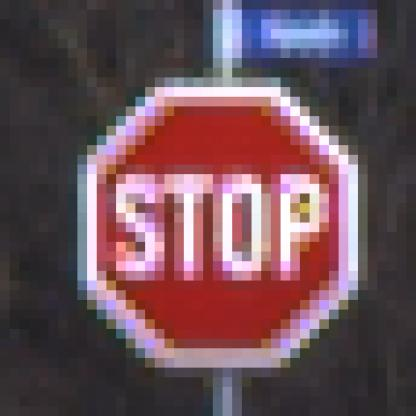Stop: (87, 95, 352, 361)
